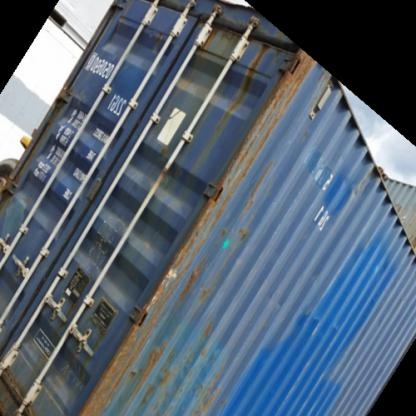Damage: (218, 50, 312, 198), (72, 340, 162, 416), (146, 235, 204, 322), (72, 213, 119, 269), (170, 368, 226, 412), (294, 306, 350, 336), (338, 168, 378, 200)
